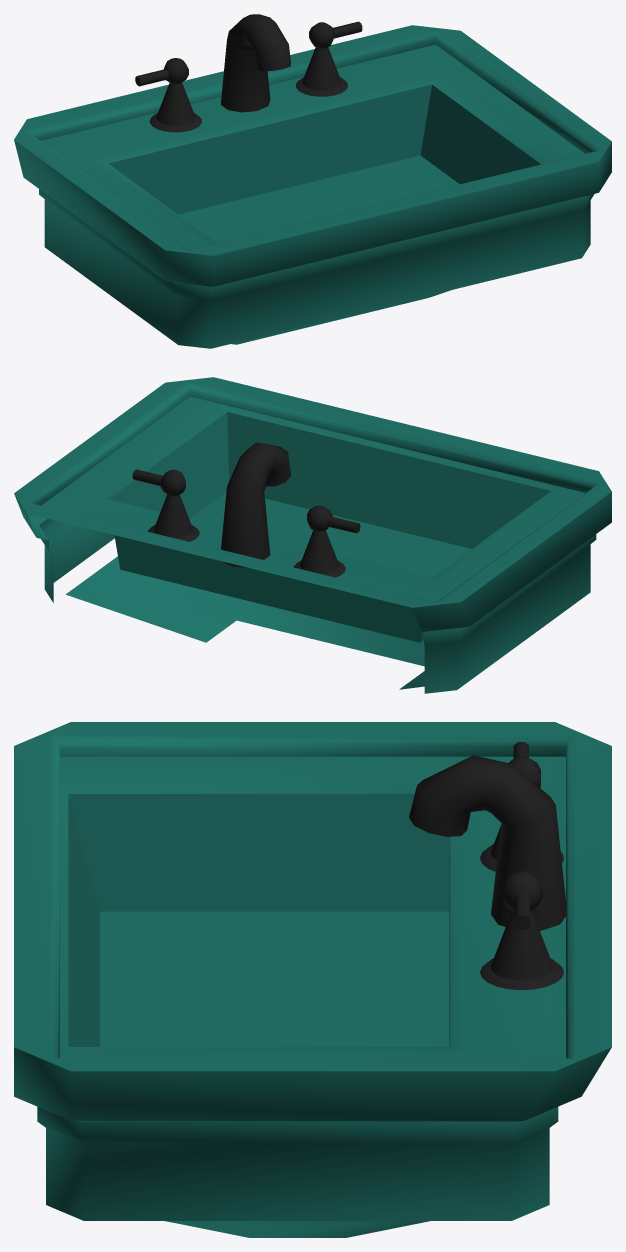
The model's file is RE_RBathSink.FBX.
The picture shows the model from 3 angles, top to bottom: view 1: azimuth 30°, elevation 25°; view 2: azimuth 150°, elevation 25°; view 3: azimuth 270°, elevation 25°; orthographic projection. The views are drawn at different scales.
Visible parts, largest first — view 1: RE_RBathSink; view 2: RE_RBathSink; view 3: RE_RBathSink.
Boxes of the visible parts, left/top/right/bottom form: RE_RBathSink: left=14, top=14, right=611, bottom=348; RE_RBathSink: left=14, top=377, right=611, bottom=693; RE_RBathSink: left=14, top=722, right=611, bottom=1237.
Bounding box in the file's own units: 57.3 × 30.83 × 41.48.
